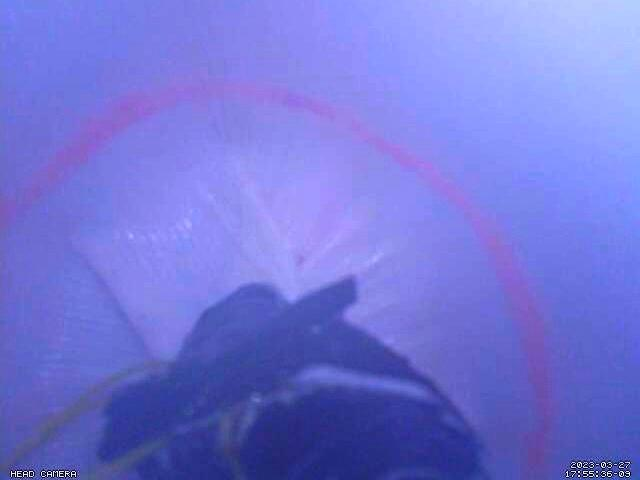head: (0, 79, 557, 480)
